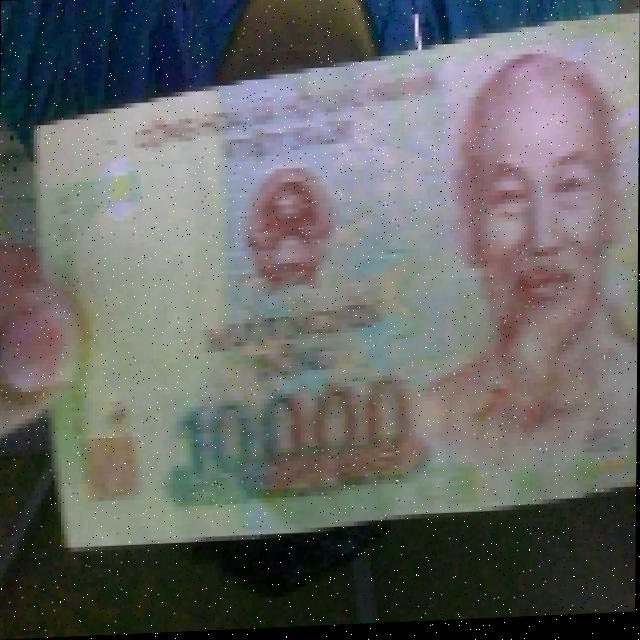10 000 VND: (27, 9, 640, 558)
